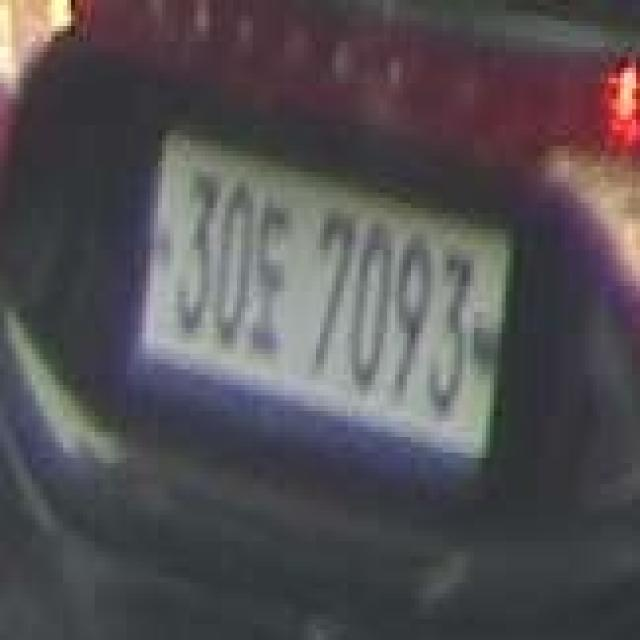0: (217, 182, 253, 344), (356, 224, 391, 390)
3: (431, 250, 474, 416), (178, 167, 217, 333)
7: (316, 208, 352, 375)
9: (395, 234, 431, 416)
do: (257, 203, 288, 354)
license_plate: (135, 120, 518, 478)
